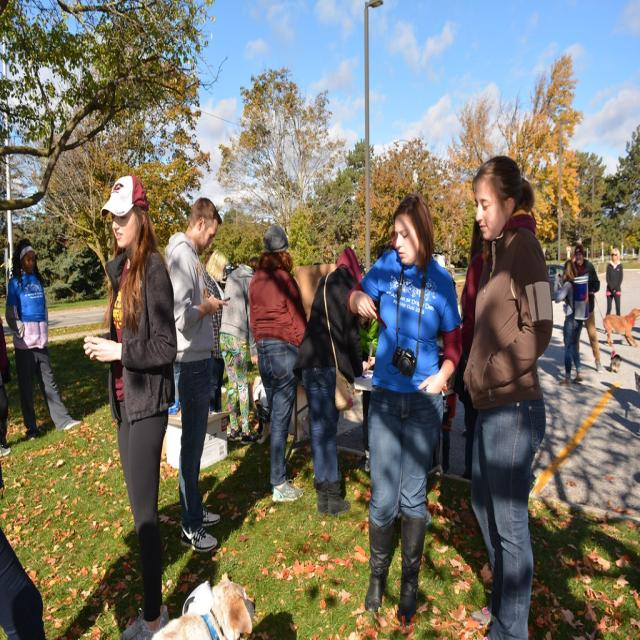body: (342, 188, 464, 626), (457, 147, 558, 639), (80, 169, 181, 639), (159, 191, 229, 561), (291, 238, 369, 518), (247, 219, 309, 507), (4, 235, 86, 444), (456, 212, 496, 487), (0, 464, 46, 640), (218, 255, 260, 446), (357, 305, 388, 474), (201, 246, 232, 414), (552, 255, 590, 387), (436, 308, 462, 478), (572, 243, 604, 375), (0, 308, 14, 460), (604, 246, 624, 336)
